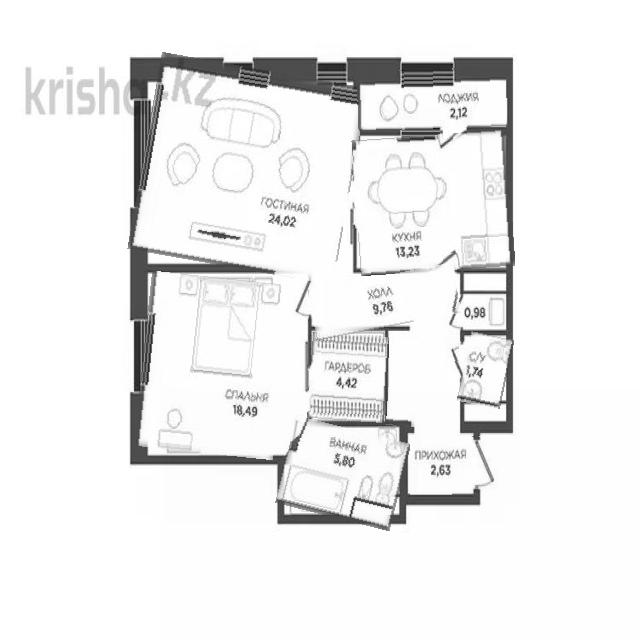bathroom: (280, 423, 406, 525), (461, 333, 511, 408)
hallway: (309, 269, 460, 334), (388, 333, 458, 428), (410, 436, 492, 495)
kitchen: (354, 133, 513, 273), (357, 67, 508, 130)
living_room: (135, 60, 360, 277), (139, 275, 287, 457)
other: (309, 334, 388, 422)
